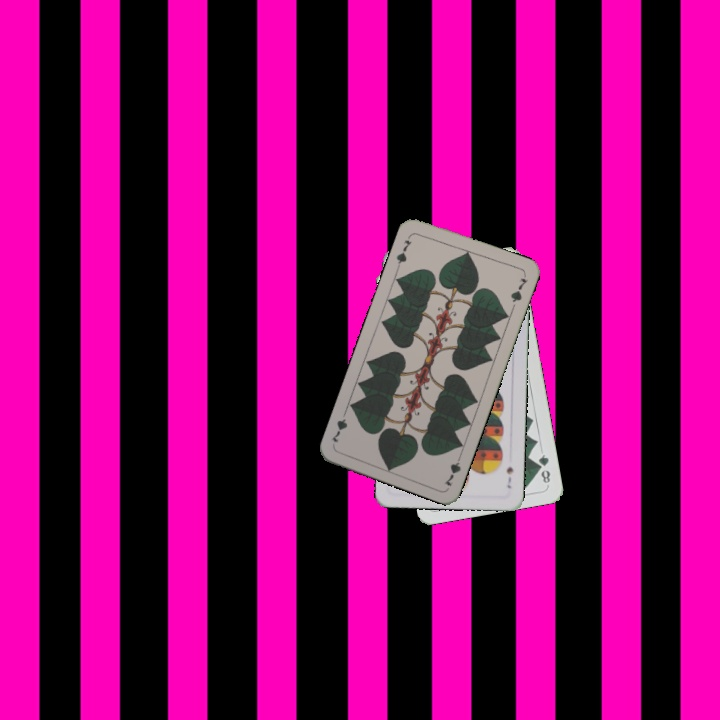G7: (440, 450, 464, 489), (392, 231, 415, 270)
G8: (534, 450, 553, 486)
S7: (502, 463, 516, 491)
